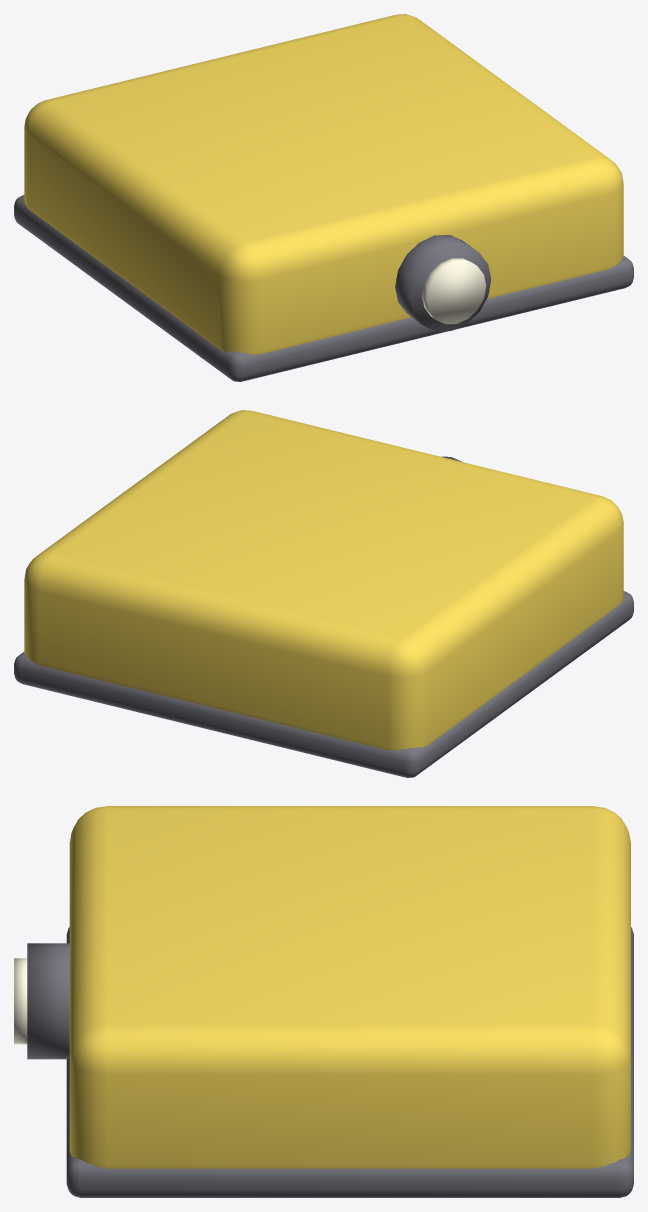
File: Assets__Models__MechaMiner__helmet.fbx
3 renders of one model, top to bottom at view 1: azimuth 30°, elevation 25°; view 2: azimuth 150°, elevation 25°; view 3: azimuth 270°, elevation 25°, orthographic. The views are drawn at different scales.
Parts seen in each view (by area): view 1: helmet_prop; view 2: helmet_prop; view 3: helmet_prop.
Boxes of the visible parts, left/top/right/bottom form: helmet_prop: left=14, top=14, right=633, bottom=381; helmet_prop: left=14, top=410, right=633, bottom=777; helmet_prop: left=14, top=806, right=633, bottom=1197.
Bounding box in the file's own units: 101 × 30.5 × 107.
